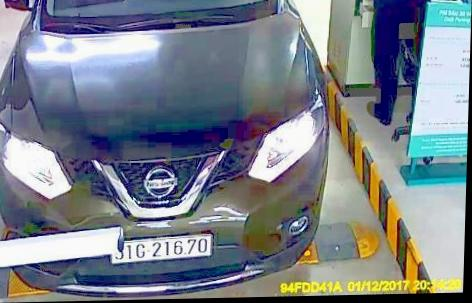License_Plate: (107, 233, 212, 260)
